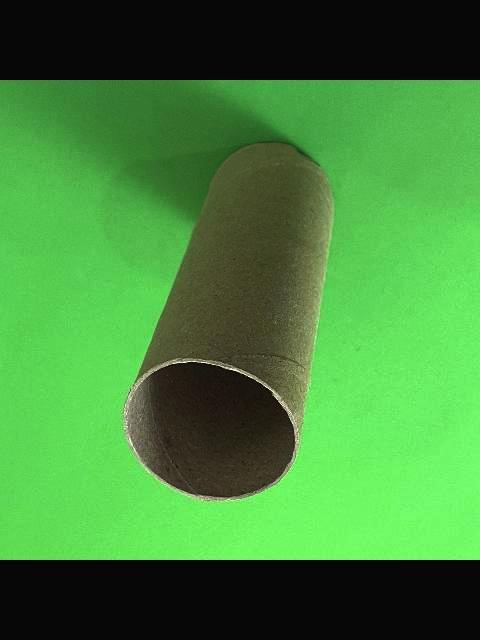tissueroll: (121, 141, 335, 503)
